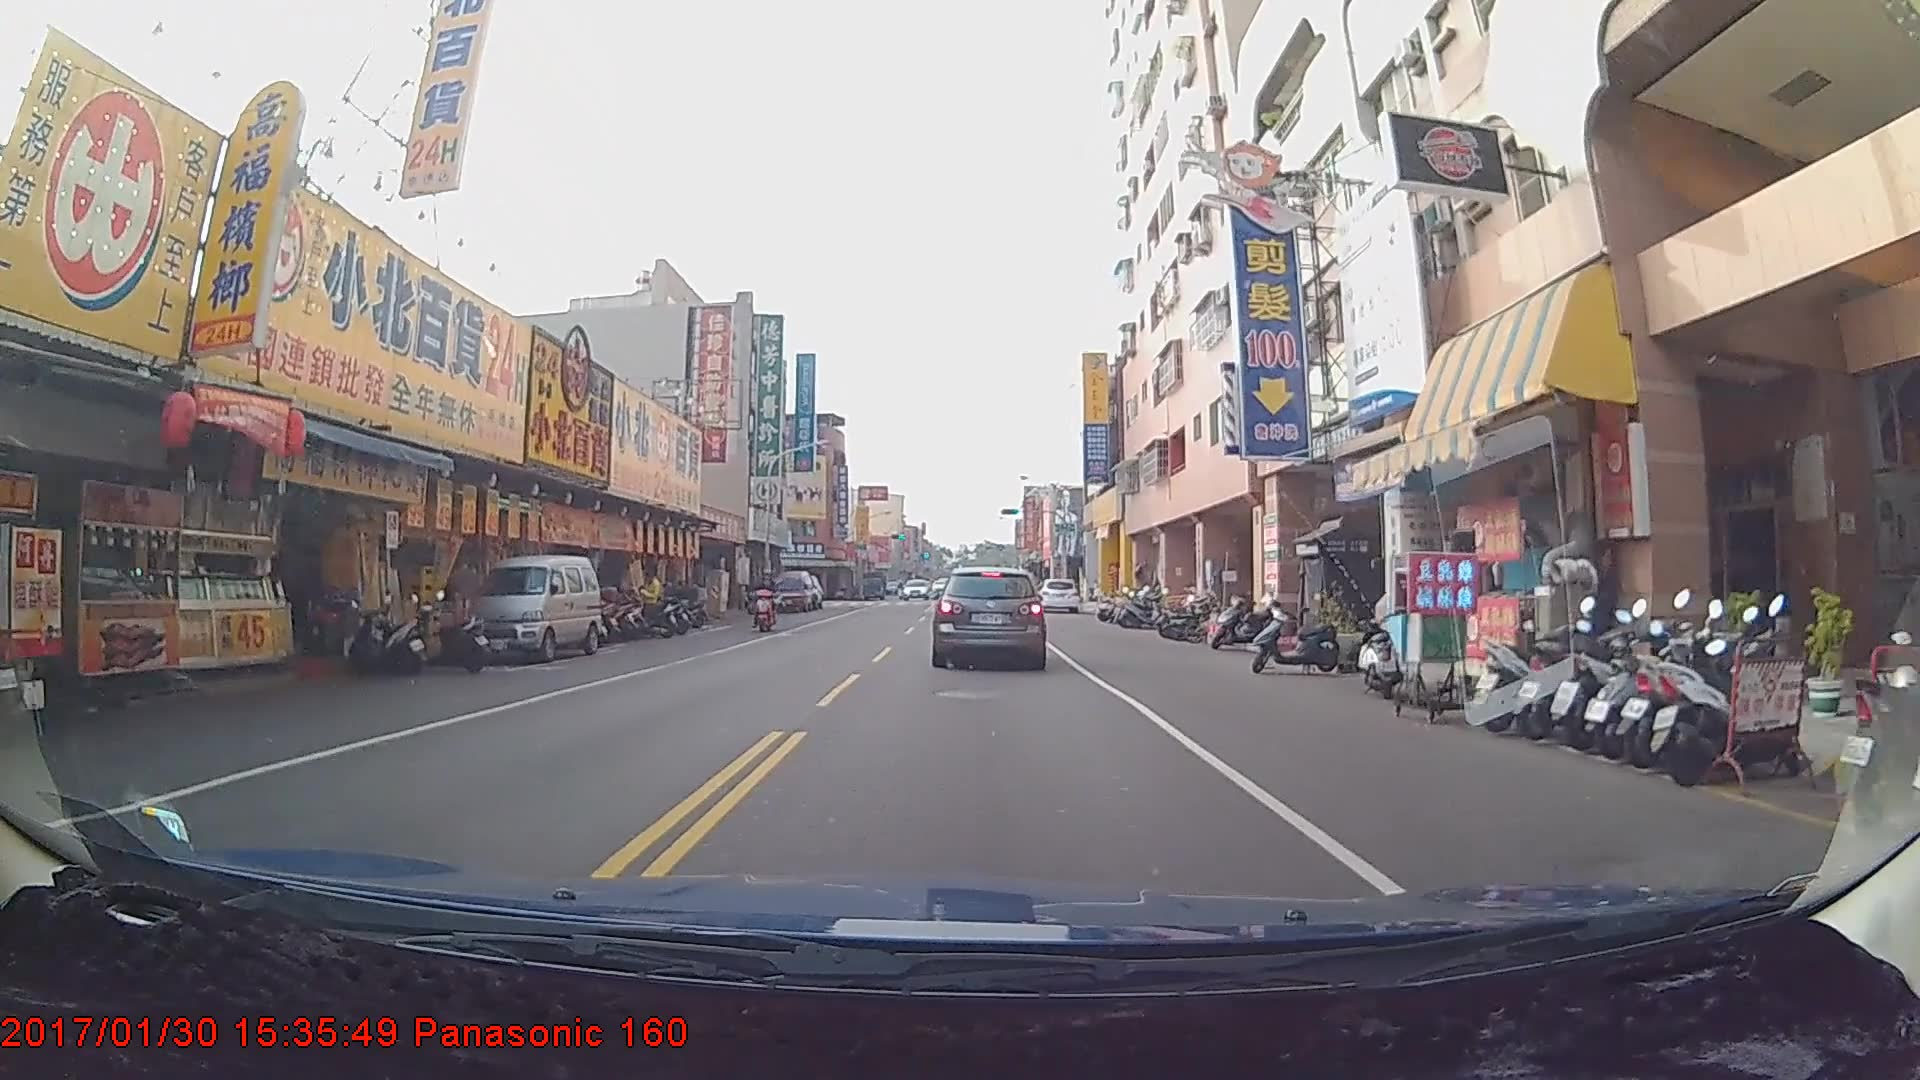pedestrian: (633, 568, 664, 633)
rider: (756, 565, 787, 632)
vehicle: (457, 553, 597, 663), (930, 565, 1047, 669), (771, 570, 814, 613), (1034, 578, 1080, 615), (901, 579, 929, 600)
